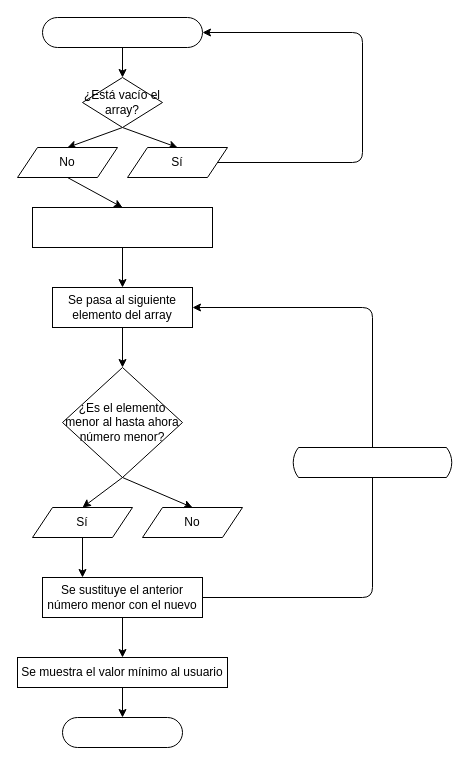
Some shapes in this 470 by 765 pixel diagram are drawn without their labels. The centre of each missing label's shape, as x and y in pixels:
"Fin del programa" belongs at (x=122, y=732).
"Reptición: hasta recorrer todo el array" belongs at (x=372, y=462).
"Se asume que el primer elemento es el menor" belongs at (x=122, y=227).
"Se pide el array al usuario" belongs at (x=122, y=32).
